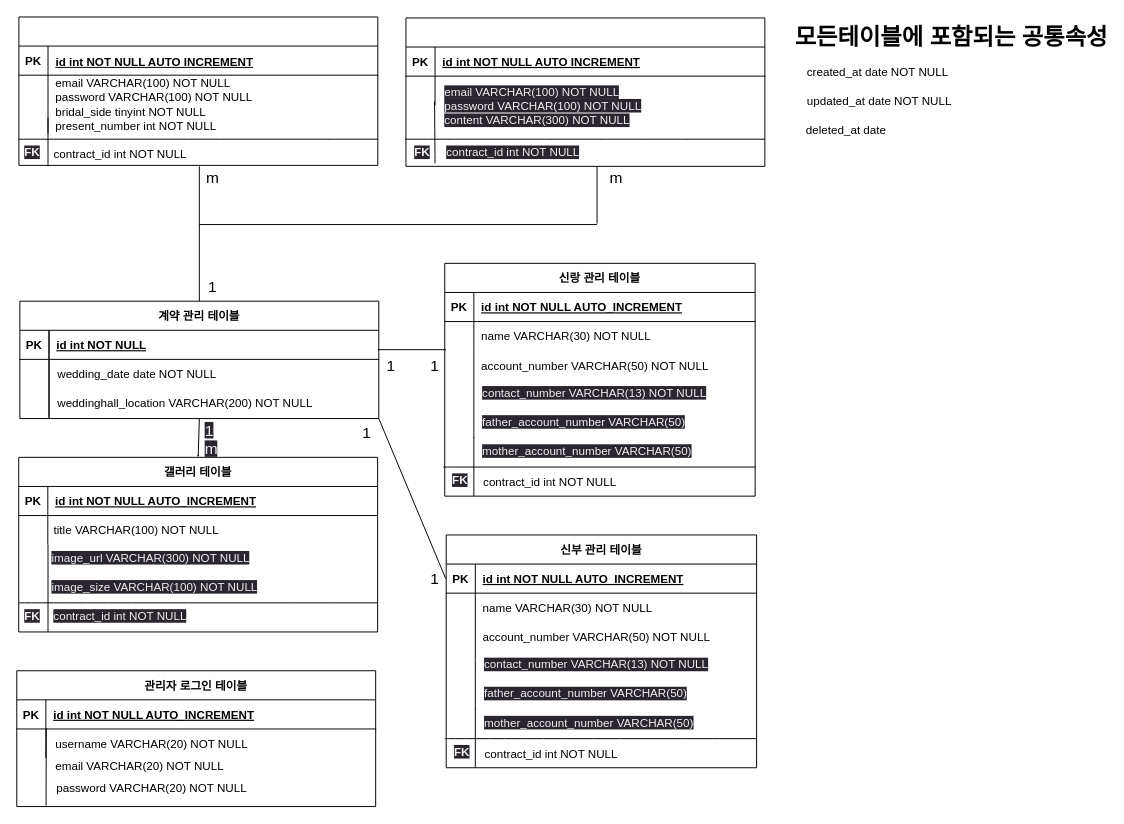
Image size: 1124x824. Some labels were removed from this diagram. Here are the shapes that lost their labels. From the top down, the box of each, then its label:
(18, 16, 378, 165): 참석의사 확정 테이블
(405, 17, 765, 166): 방명록 테이블
